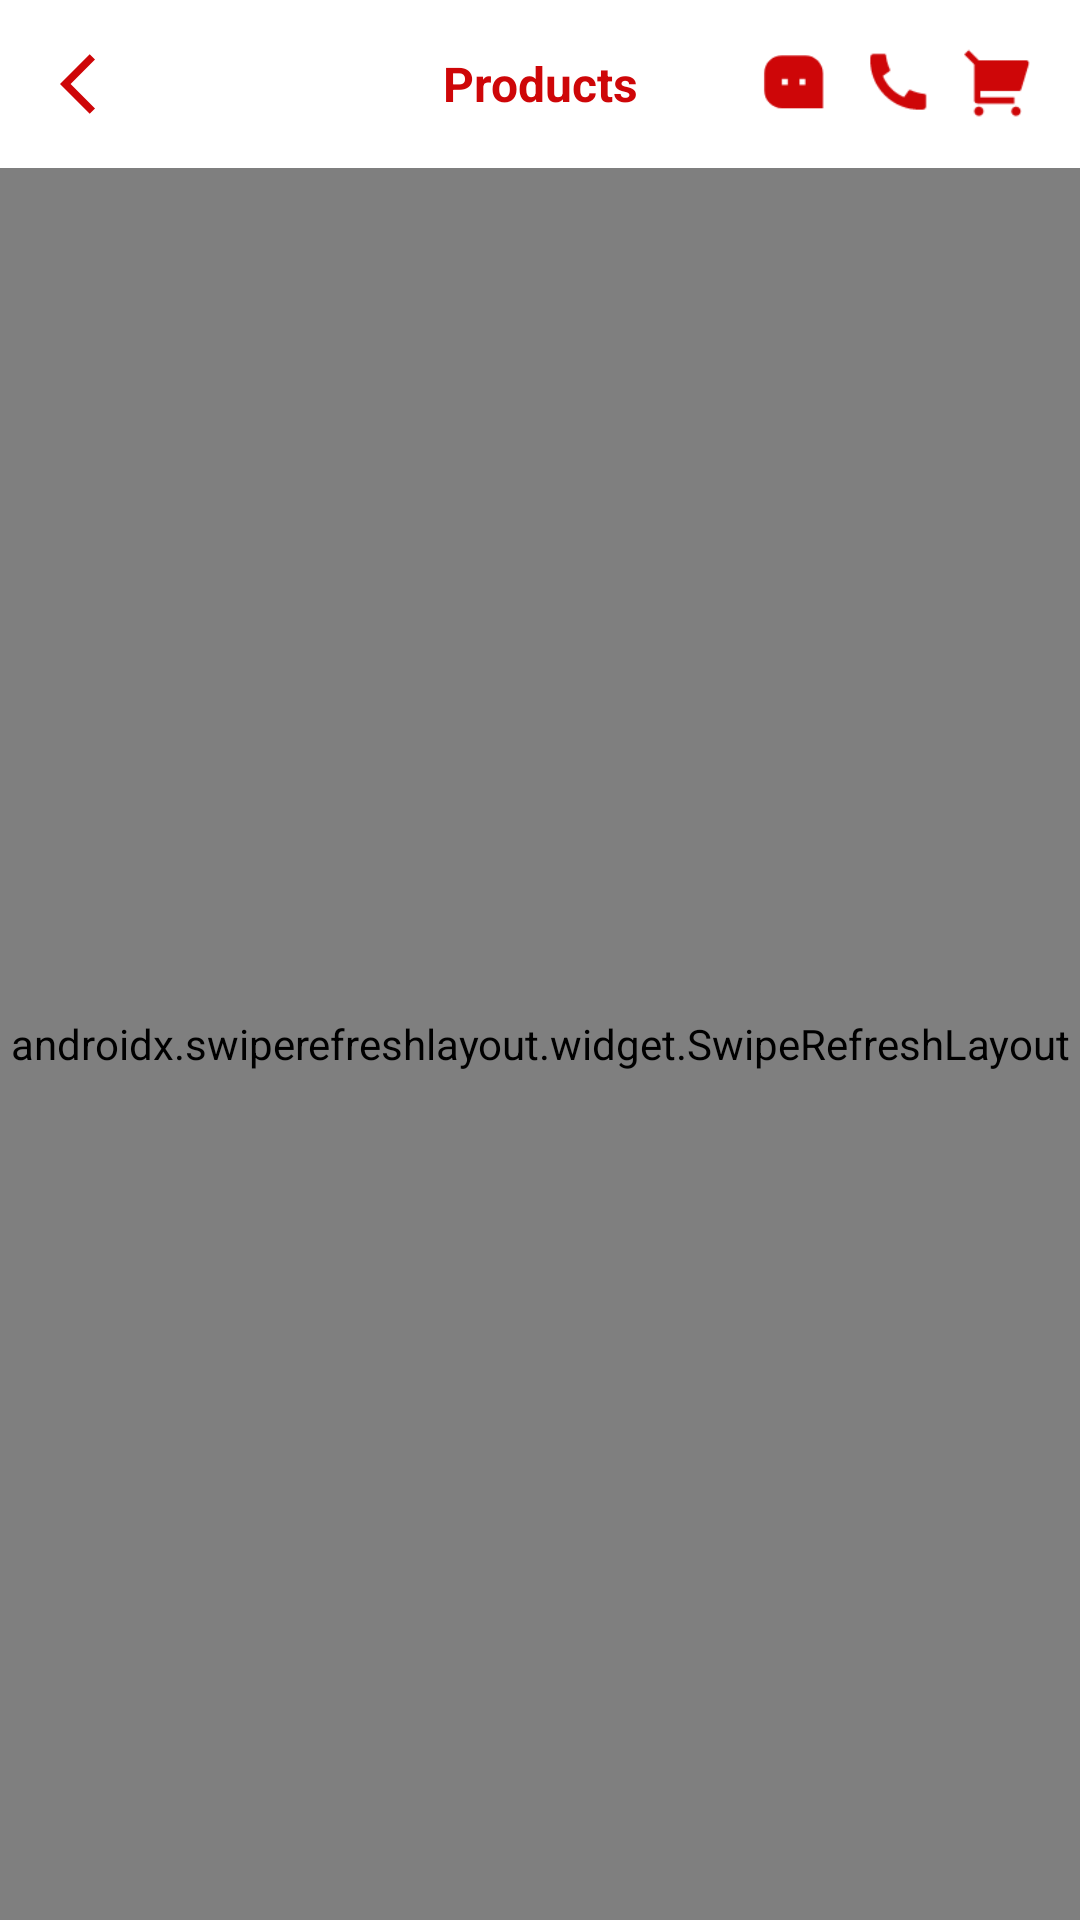

Where icons sit on this 1080 × 1920 app screen, as (x1, y1, x2, y2):
back arrow: (60, 54, 95, 114)
cart: (964, 50, 1030, 117)
chat: (764, 55, 824, 109)
phone: (870, 53, 927, 110)
